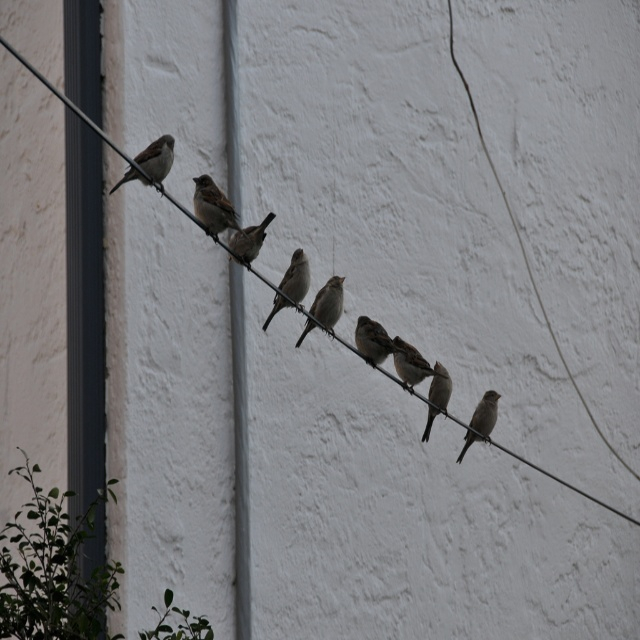Sparrow: (179, 164, 243, 236), (110, 135, 175, 196), (264, 247, 308, 335), (294, 274, 346, 348), (457, 388, 501, 466), (226, 207, 277, 267), (422, 362, 454, 440), (391, 341, 435, 394), (356, 316, 397, 365)
